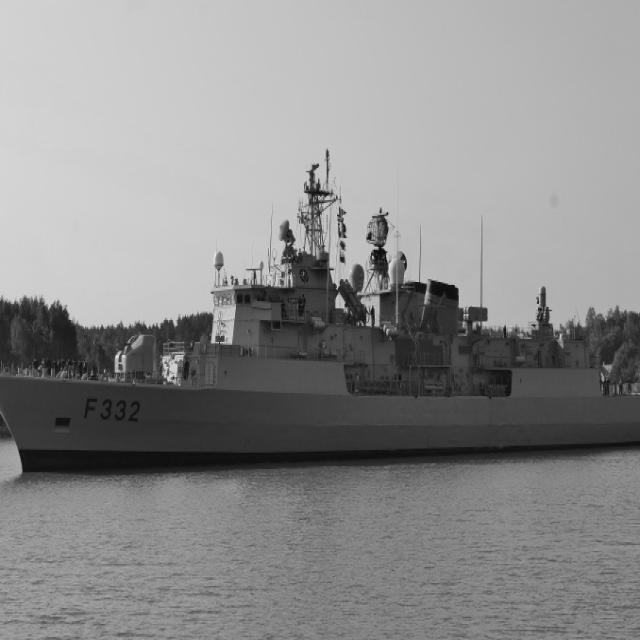Fragata: (1, 131, 640, 489)
